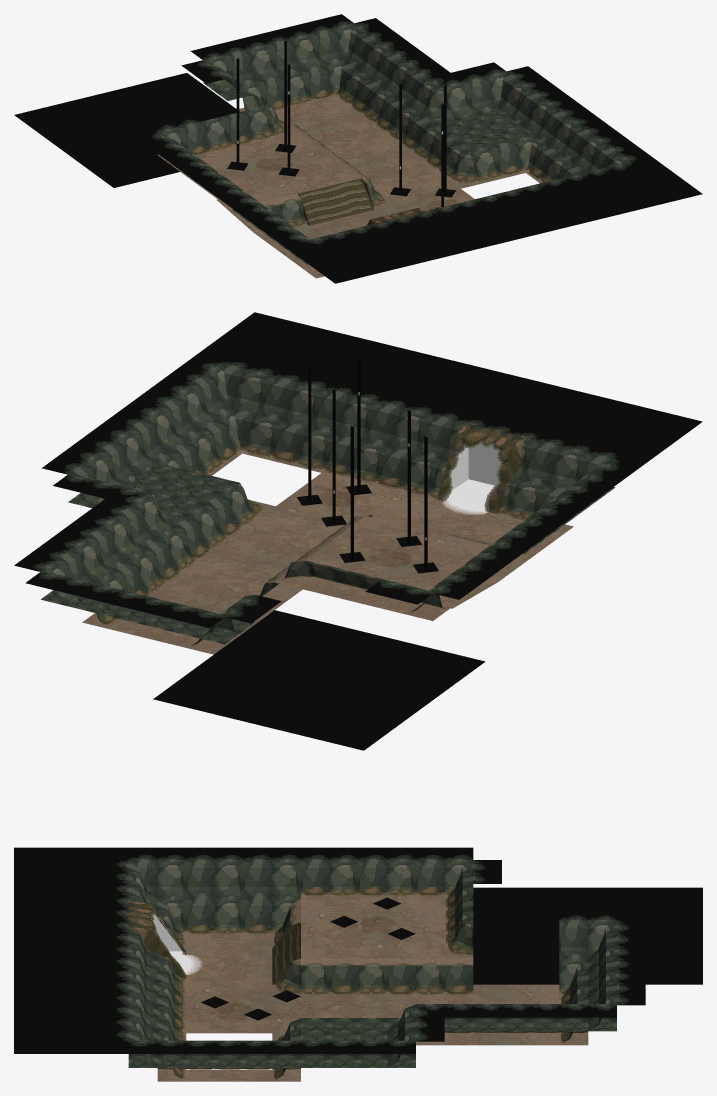
The picture shows the model from 3 angles, top to bottom: view 1: azimuth 30°, elevation 25°; view 2: azimuth 150°, elevation 25°; view 3: azimuth 270°, elevation 25°; orthographic projection. The views are drawn at different scales.
Parts seen in each view (by area): view 1: polygon8, polygon7, polygon11, polygon5, polygon6, polygon10, polygon0, polygon12, polygon9, polygon2; view 2: polygon8, polygon7, polygon11, polygon5, polygon10, polygon6, polygon0, polygon4, polygon3, polygon2; view 3: polygon8, polygon11, polygon7, polygon5, polygon10, polygon6, polygon9, polygon4, polygon0, polygon12, polygon2, polygon3.
Part boxes in pixels (x1=…): polygon8: x1=14, y1=14, x2=702, y2=283; polygon7: x1=170, y1=31, x2=618, y2=221; polygon11: x1=157, y1=94, x2=541, y2=278; polygon5: x1=157, y1=23, x2=630, y2=241; polygon6: x1=188, y1=86, x2=553, y2=227; polygon10: x1=203, y1=82, x2=534, y2=264; polygon0: x1=227, y1=40, x2=455, y2=208; polygon12: x1=297, y1=178, x2=374, y2=225; polygon9: x1=261, y1=123, x2=369, y2=208; polygon2: x1=255, y1=157, x2=457, y2=210; polygon8: x1=14, y1=312, x2=702, y2=750; polygon7: x1=54, y1=373, x2=601, y2=643; polygon11: x1=82, y1=449, x2=573, y2=654; polygon5: x1=41, y1=363, x2=615, y2=616; polygon10: x1=41, y1=464, x2=615, y2=644; polygon6: x1=98, y1=440, x2=534, y2=646; polygon0: x1=297, y1=358, x2=438, y2=573; polygon4: x1=437, y1=423, x2=526, y2=513; polygon3: x1=442, y1=443, x2=499, y2=515; polygon2: x1=318, y1=486, x2=412, y2=566; polygon8: x1=14, y1=847, x2=702, y2=1053; polygon11: x1=157, y1=893, x2=588, y2=1081; polygon7: x1=128, y1=867, x2=616, y2=1074; polygon5: x1=128, y1=860, x2=616, y2=1041; polygon10: x1=128, y1=1019, x2=616, y2=1067; polygon6: x1=157, y1=887, x2=588, y2=1079; polygon9: x1=290, y1=898, x2=473, y2=966; polygon4: x1=128, y1=901, x2=186, y2=978; polygon0: x1=201, y1=897, x2=415, y2=1020; polygon12: x1=272, y1=922, x2=300, y2=984; polygon2: x1=207, y1=916, x2=396, y2=1019; polygon3: x1=152, y1=915, x2=202, y2=974.
Size of the model in its own units: 4.5 by 1.56 by 6.
13 materials, 13 textured.
